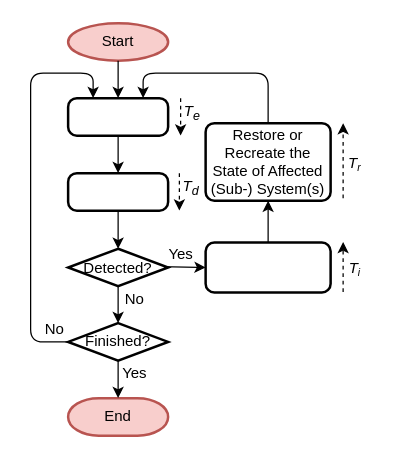
This 395x458 diagram has some shape labels left out. The shapes that lost their labels are listed below. From the top down, each one's centre as x and y in pixels, then its label:
(117,116): Execute
(117,191): Detect
(267,267): Isolate Affected Sub-System(s)
